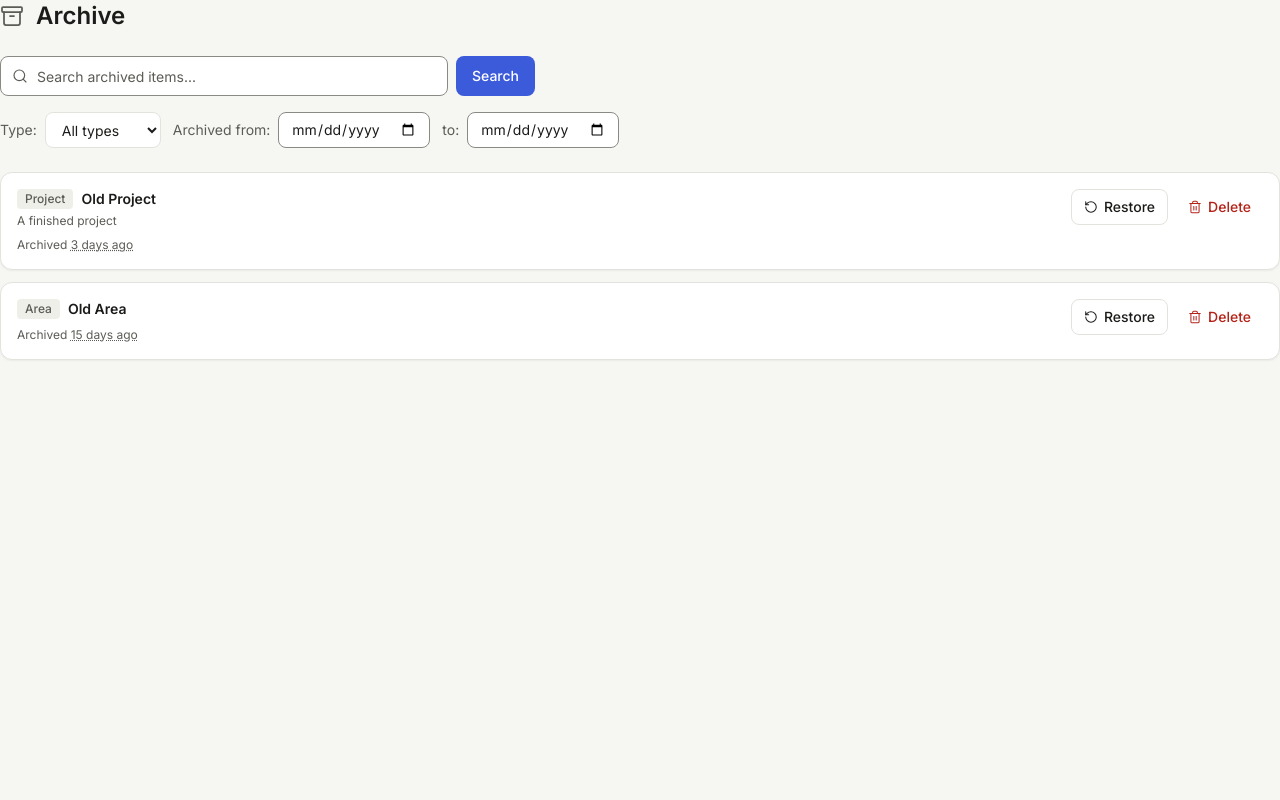
Scenario: ArchivePage › delete button shows confirm dialog with exact text
Click the button with aria-label "delete old project permanently" at (1220, 207), box [1176,189,1263,225]
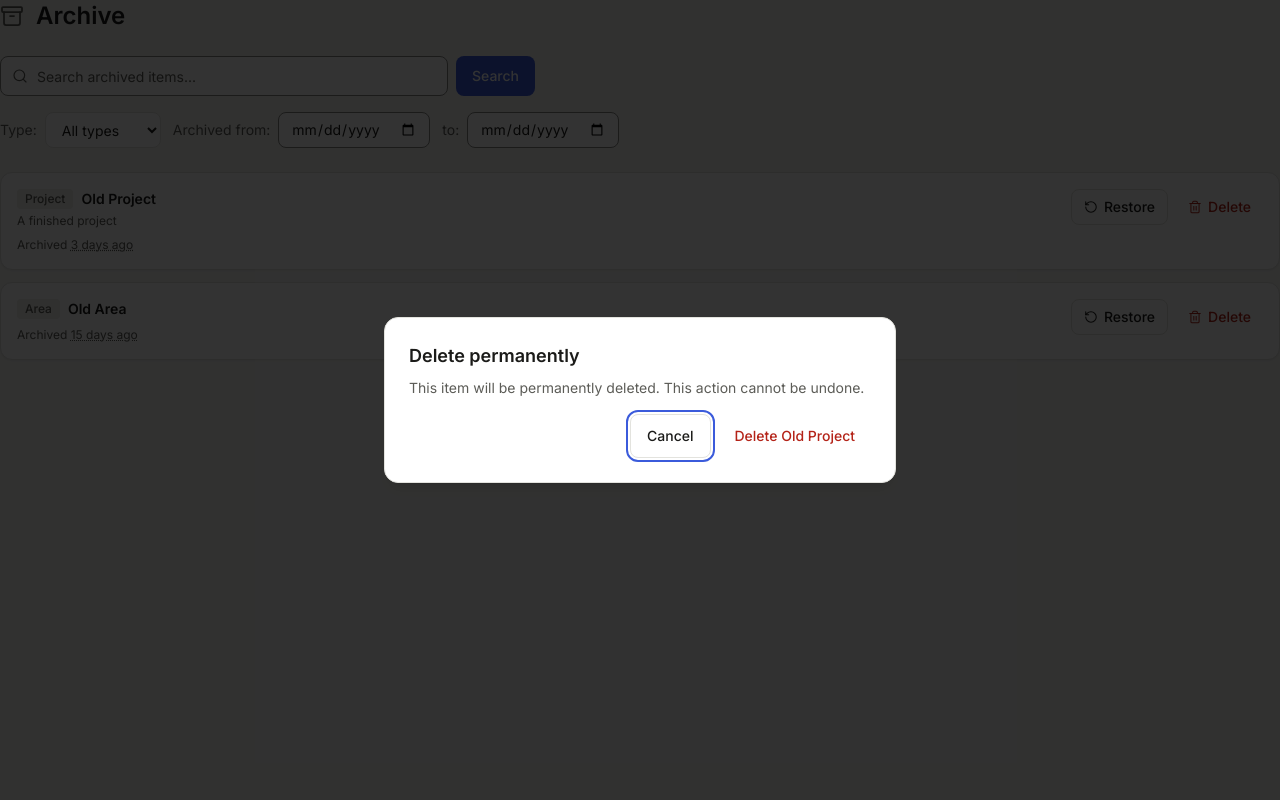
Now the text "This item will be permanently deleted. This action cannot be undone." is shown, box [409,378,871,398]
